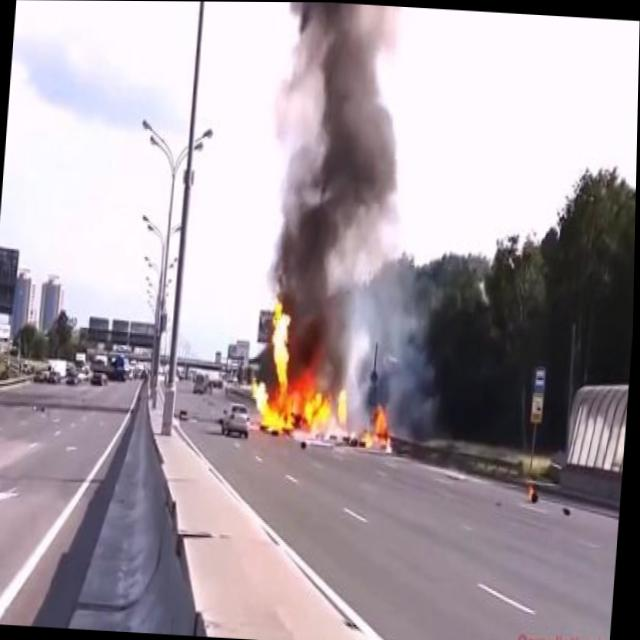fire: (250, 293, 358, 444), (362, 399, 397, 454), (531, 482, 537, 501)
